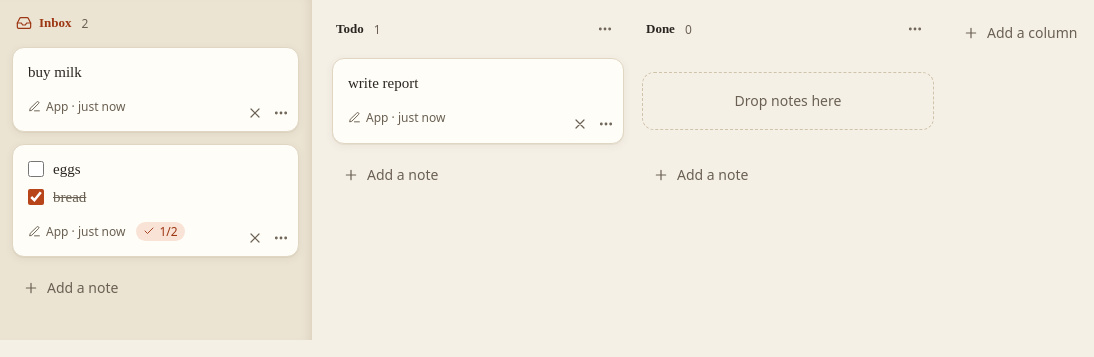
BoardShell › adds a note into a column with a client-generated id, and shows it at once (WEB-9)
Click the button "Add a note" below "write report" at (403, 174), box [332,156,624,194]
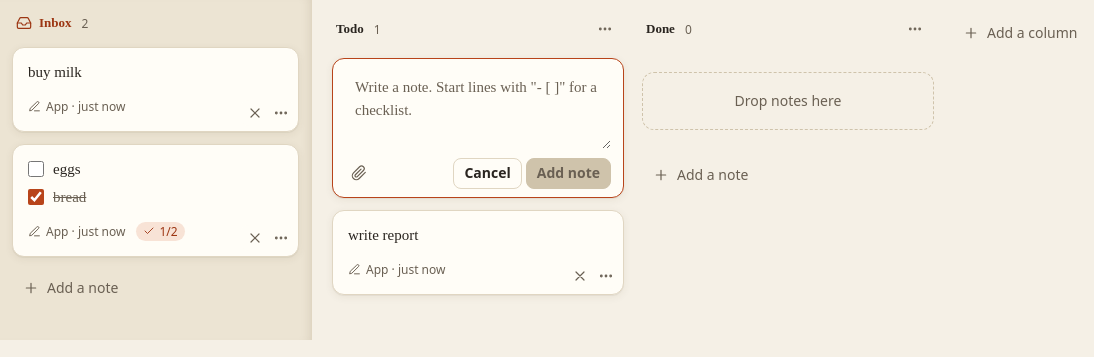
Type "call dentist" into the text box at (478, 109), box [345,69,611,149]
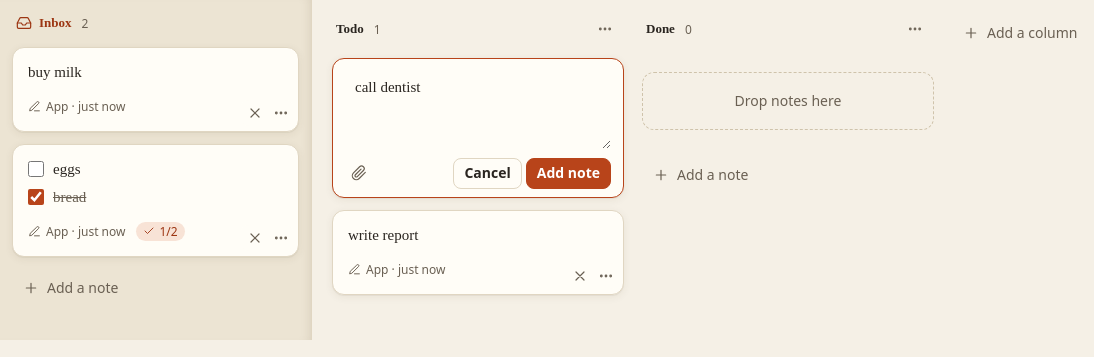
Click the button "Add note" at (568, 173), box [526,158,611,189]
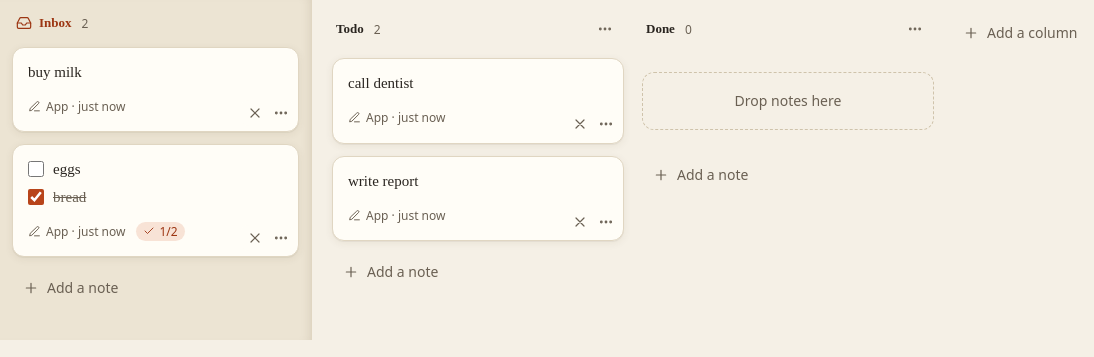
Expected: the text "call dentist" is shown, [348,75,413,91]
